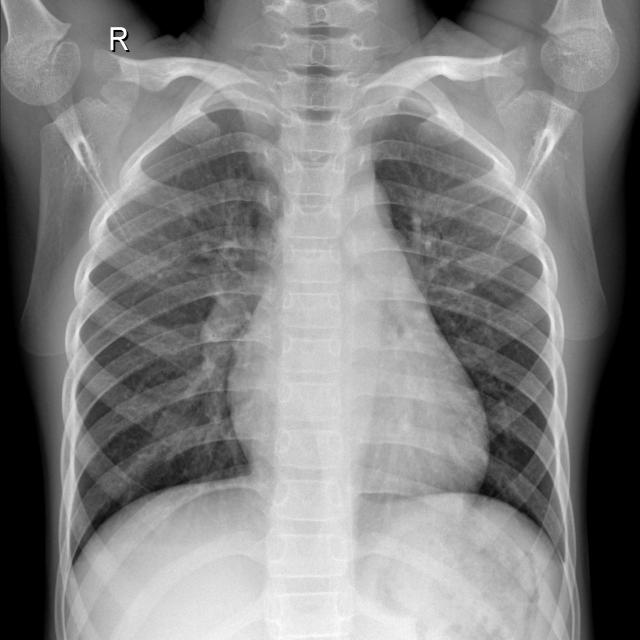no-pneumonia: (66, 108, 282, 563), (372, 108, 569, 553)
